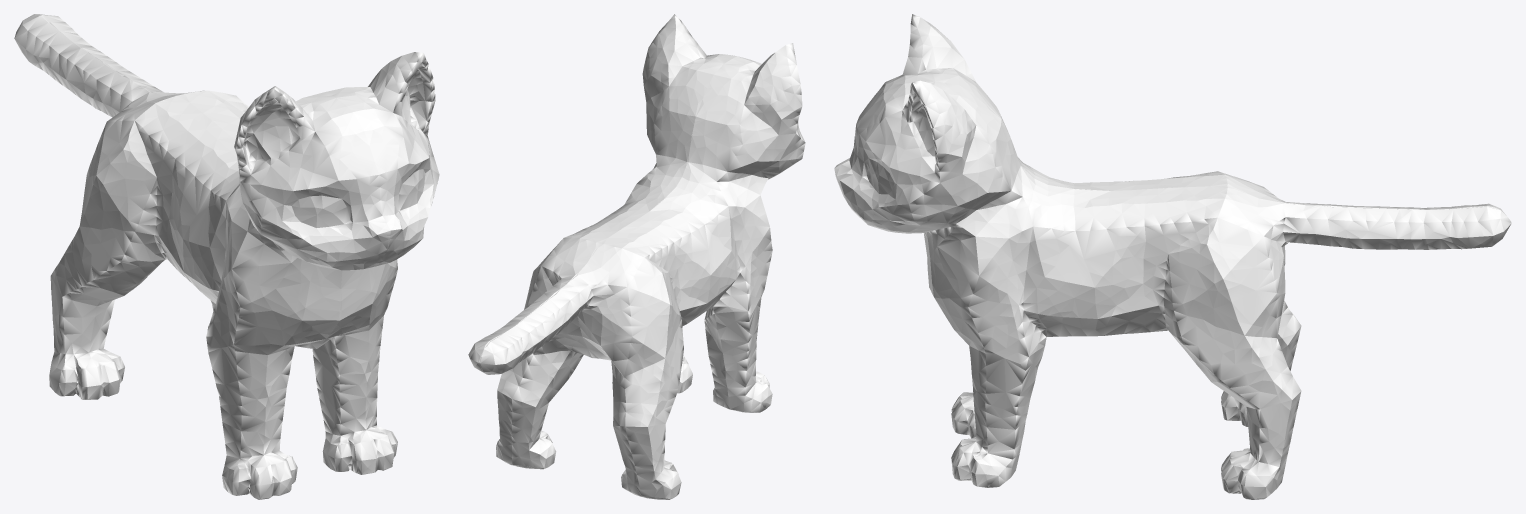
The model's file is Cat_Symmetric_Mesh.glb.
3 views of the same model, side by side, from view 1: azimuth 30°, elevation 25°; view 2: azimuth 150°, elevation 25°; view 3: azimuth 270°, elevation 25° (orthographic). The views are drawn at different scales.
Visible parts, largest first — view 1: Cat_Game_Symmetric; view 2: Cat_Game_Symmetric; view 3: Cat_Game_Symmetric.
Boxes of the visible parts, <box> form: Cat_Game_Symmetric: <box>14,14,439,499</box>; Cat_Game_Symmetric: <box>468,14,805,499</box>; Cat_Game_Symmetric: <box>834,14,1511,499</box>.
Size of the model in its own units: 0.3564 by 0.6577 by 0.9979.
Materials: 1 (1 with a texture image).
